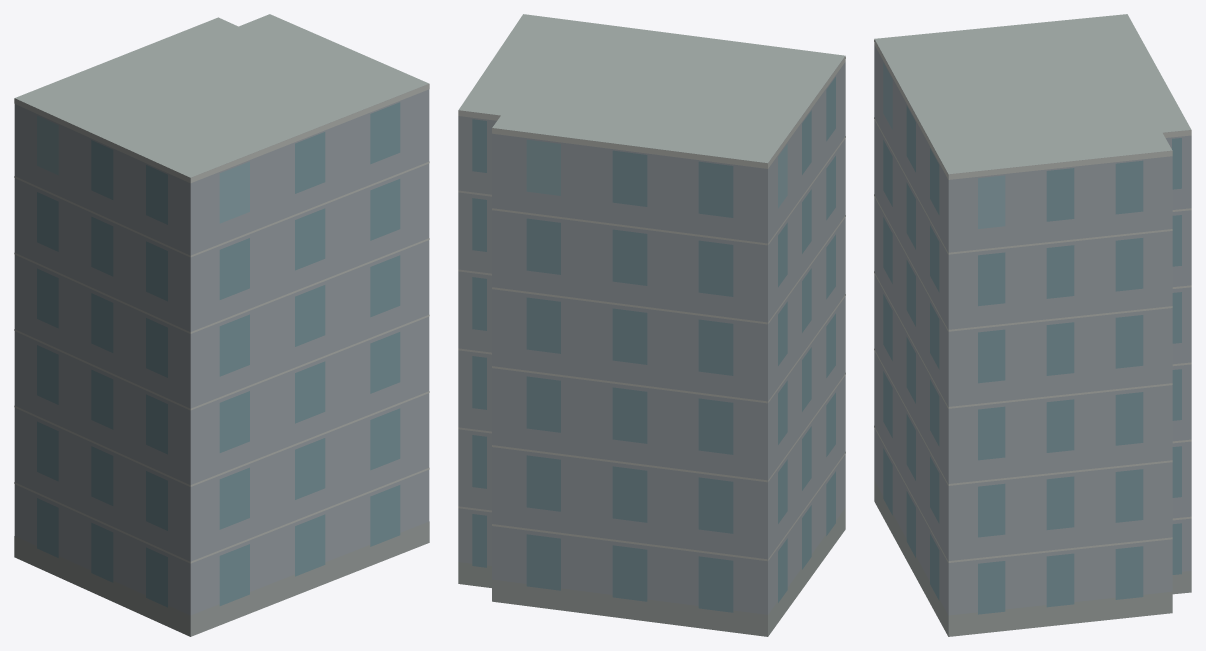
File: survey-upis-32809452.glb
3 views of the same model, side by side, from view 1: azimuth 30°, elevation 25°; view 2: azimuth 150°, elevation 25°; view 3: azimuth 270°, elevation 25° (orthographic). The views are drawn at different scales.
Visible parts, largest first — view 1: survey-upis-32809452.tmp; view 2: survey-upis-32809452.tmp; view 3: survey-upis-32809452.tmp.
Boxes of the visible parts, left/top/right/bottom form: survey-upis-32809452.tmp: left=14, top=14, right=429, bottom=636; survey-upis-32809452.tmp: left=458, top=14, right=845, bottom=636; survey-upis-32809452.tmp: left=874, top=14, right=1191, bottom=636.
Size of the model in its own units: 14.81 by 19.9 by 12.39.
